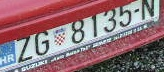1: (88, 11, 98, 39)
3: (103, 5, 115, 32)
5: (115, 1, 132, 28)
8: (71, 18, 85, 44)
G: (34, 29, 50, 55)
N: (141, 0, 155, 21)
Z: (14, 35, 32, 63)
